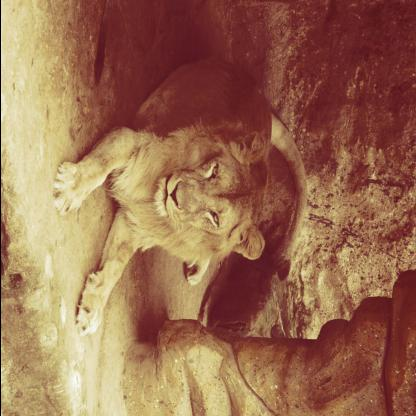lion: (150, 119, 264, 274)
